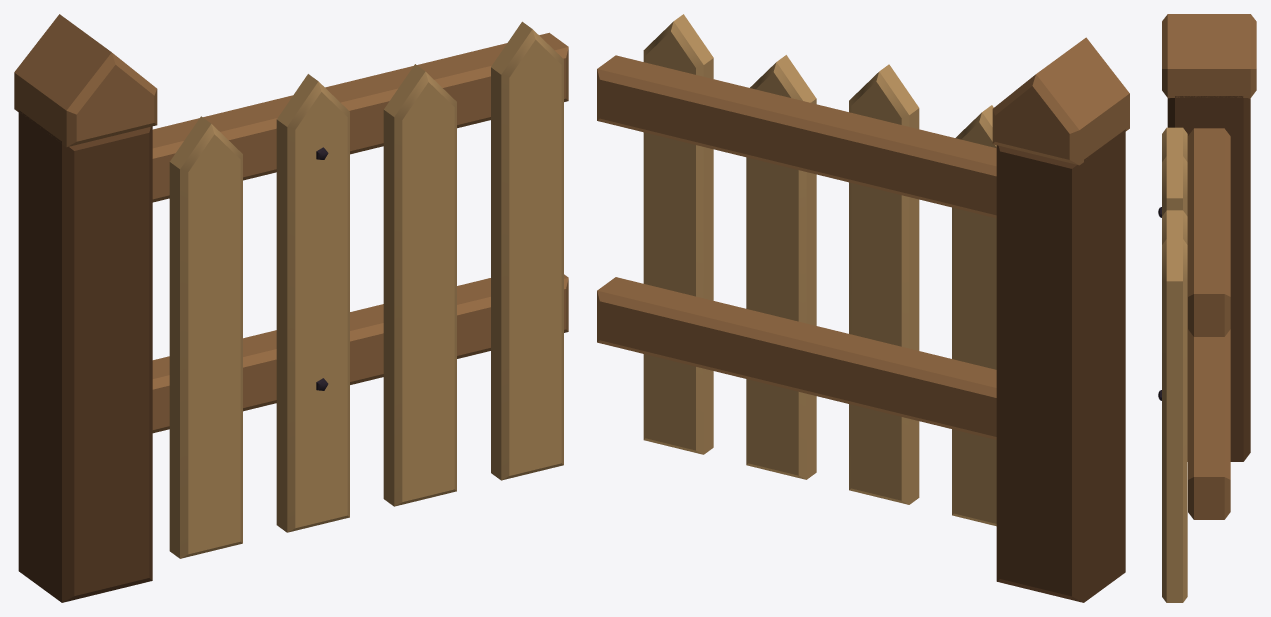
File: Fence_12.glb
3 renders of one model, left to right at view 1: azimuth 30°, elevation 25°; view 2: azimuth 150°, elevation 25°; view 3: azimuth 270°, elevation 25°, orthographic. The views are drawn at different scales.
Visible parts, largest first — view 1: Fence_12; view 2: Fence_12; view 3: Fence_12.
Part boxes in pixels (x1,y1,x2,y2): Fence_12: (14,14,568,602); Fence_12: (597,14,1129,602); Fence_12: (1158,14,1256,602).
Size of the model in its own units: 4 by 4 by 0.8288.
